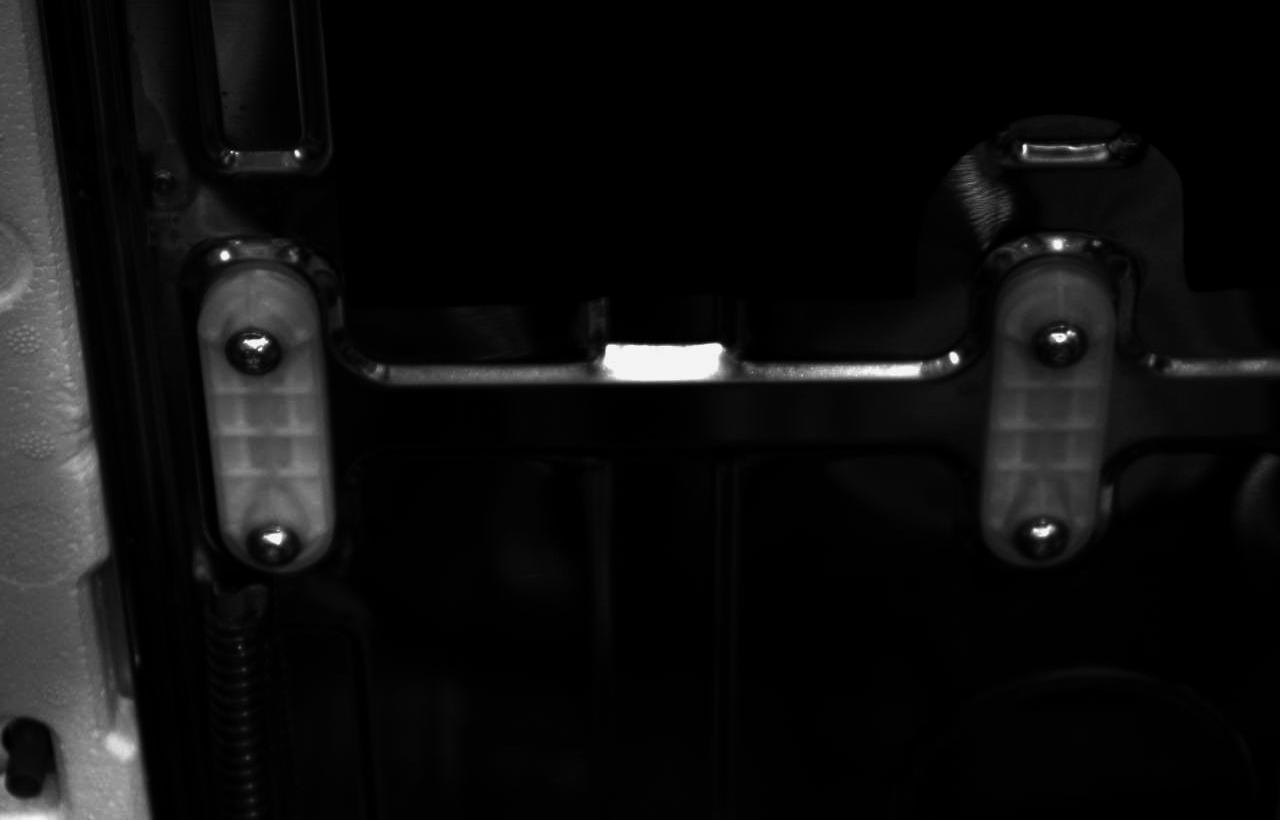vida-ok: (220, 314, 291, 381), (1010, 499, 1076, 568), (1026, 311, 1093, 378), (243, 518, 309, 577)
